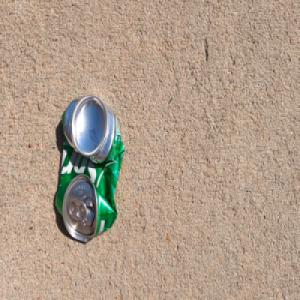SodaCan: (54, 93, 125, 243)
